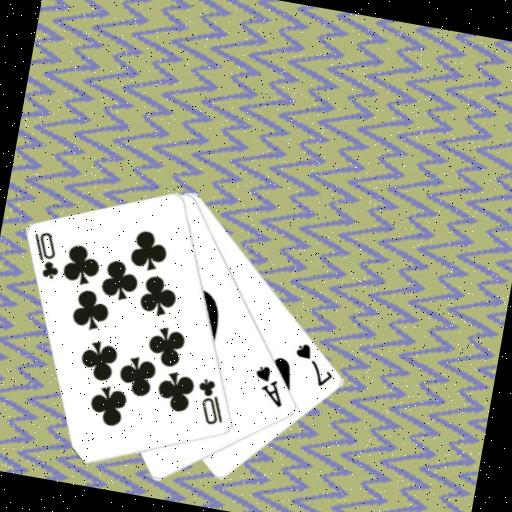10C: (25, 226, 67, 282), (189, 374, 231, 429)
7S: (287, 338, 340, 390)
AS: (247, 360, 291, 410)
